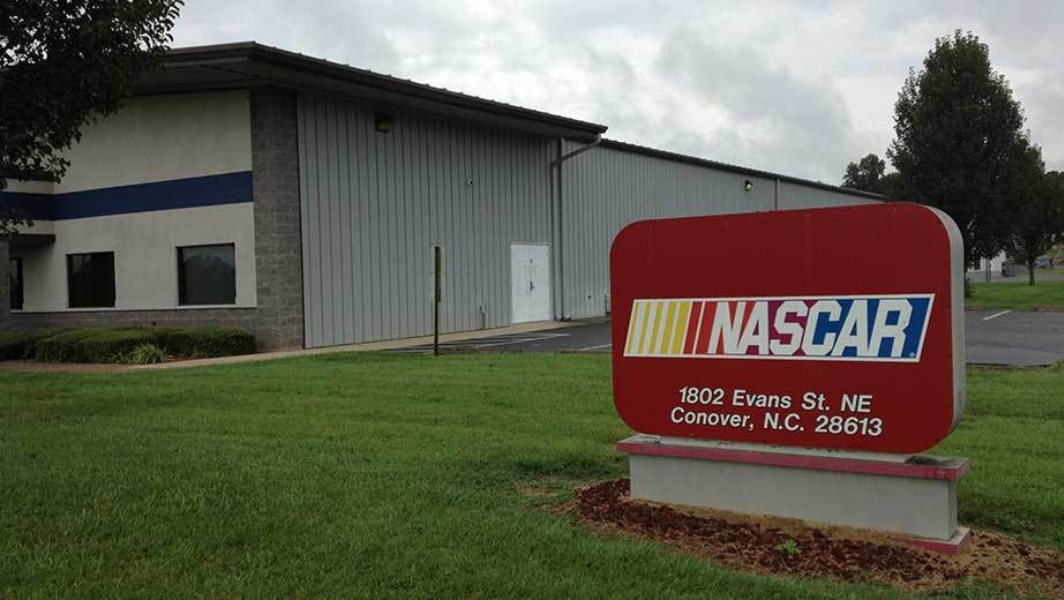text: (721, 296, 736, 359), (737, 296, 752, 359), (753, 296, 768, 359), (769, 296, 784, 359), (785, 296, 800, 359), (801, 296, 816, 359), (817, 296, 832, 359), (833, 296, 848, 359), (849, 296, 864, 359), (865, 296, 880, 359), (881, 296, 896, 359), (897, 296, 912, 359), (673, 407, 688, 433), (689, 407, 704, 433), (705, 407, 720, 433), (721, 407, 736, 433), (737, 407, 752, 433), (817, 389, 833, 412), (689, 384, 704, 408), (705, 384, 720, 408), (769, 410, 784, 433), (785, 410, 800, 433), (817, 415, 832, 438), (833, 415, 848, 438), (849, 415, 864, 438), (865, 415, 880, 438), (737, 388, 752, 410), (753, 388, 768, 410), (769, 388, 784, 410), (849, 393, 864, 414), (803, 389, 816, 412), (716, 296, 720, 359), (679, 384, 688, 408), (865, 393, 875, 414), (785, 388, 794, 410), (721, 384, 729, 408), (913, 296, 916, 359), (801, 410, 807, 433), (842, 393, 848, 414), (881, 415, 886, 438), (764, 410, 768, 433), (753, 407, 756, 433), (733, 388, 736, 410)
